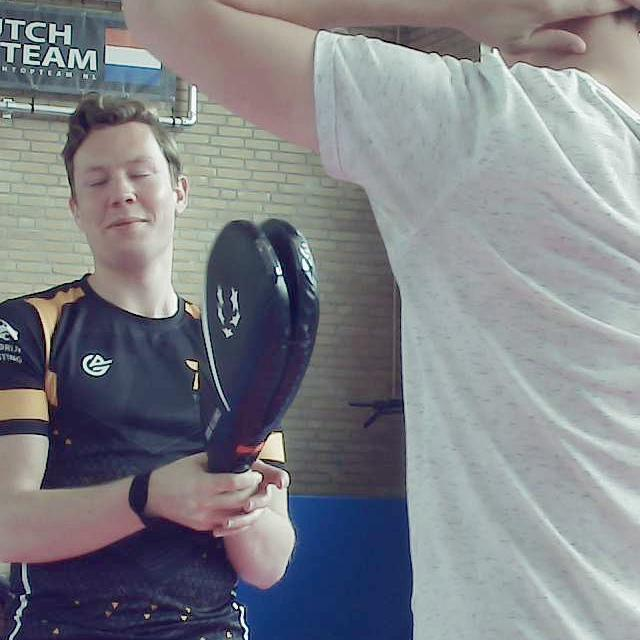paddle: (200, 217, 322, 480)
